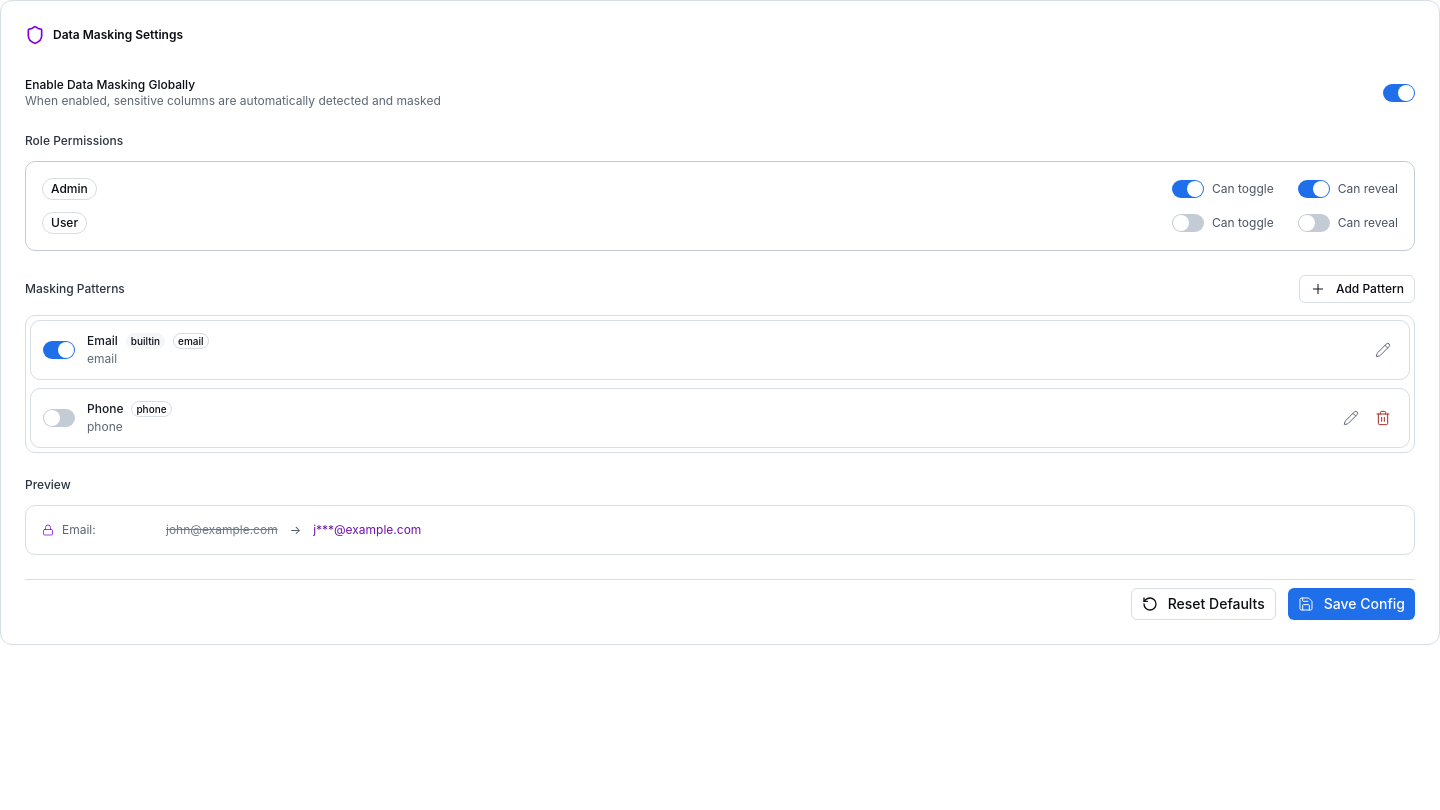
it: MaskingSettings › Add Pattern button opens new pattern dialog
Click the button "Add Pattern" at (1357, 289), box [1299, 275, 1415, 303]
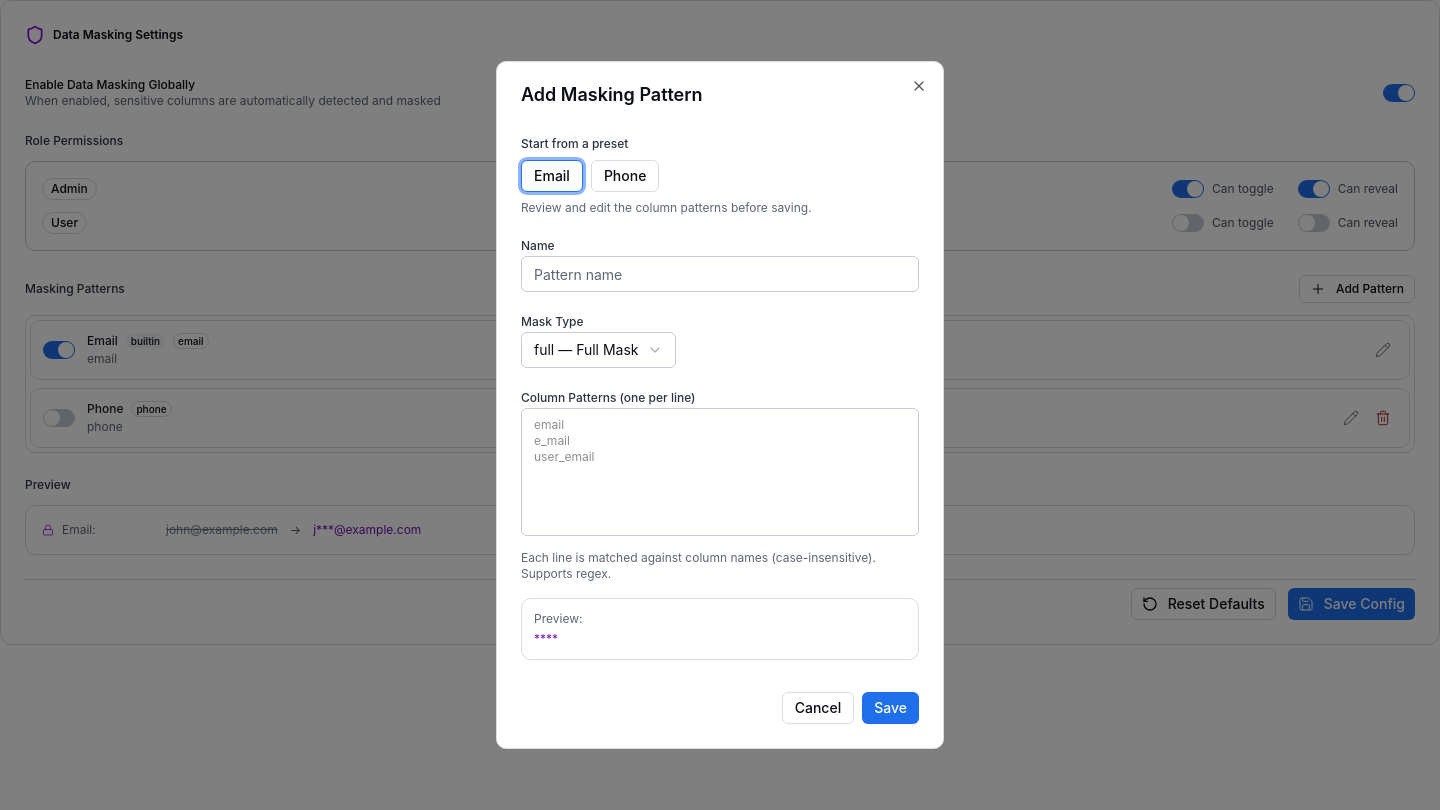
Result: the heading "Add Masking Pattern" is shown at [521, 84, 703, 105]
Result: the field with placeholder "Pattern name" is empty at [521, 256, 919, 292]
